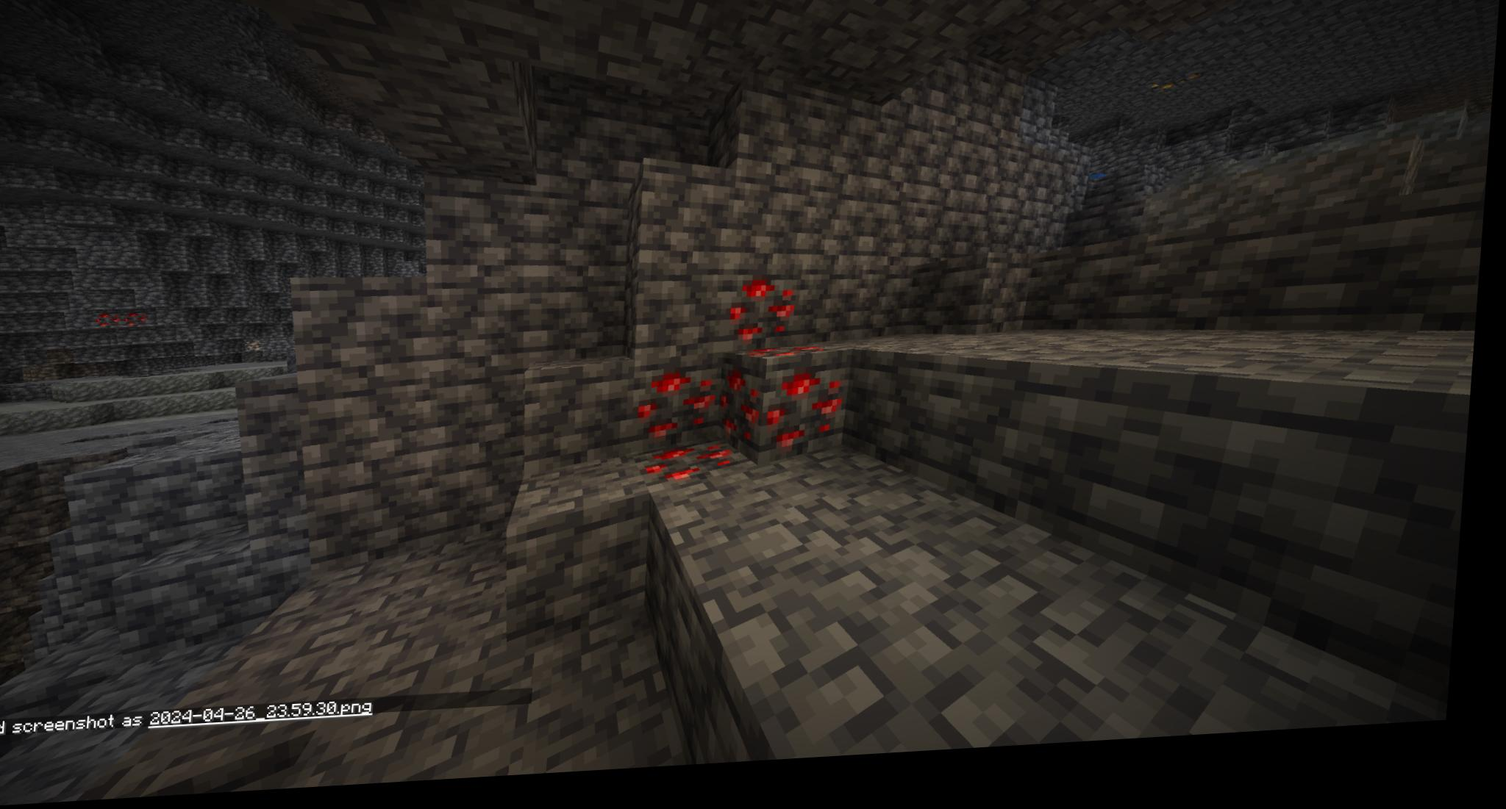gold ore: (1148, 80, 1205, 112)
iron ore: (239, 337, 276, 363)
redstone ore: (764, 365, 857, 458), (636, 371, 730, 451), (731, 284, 808, 364), (658, 447, 747, 493), (727, 374, 774, 457), (99, 307, 156, 332)
